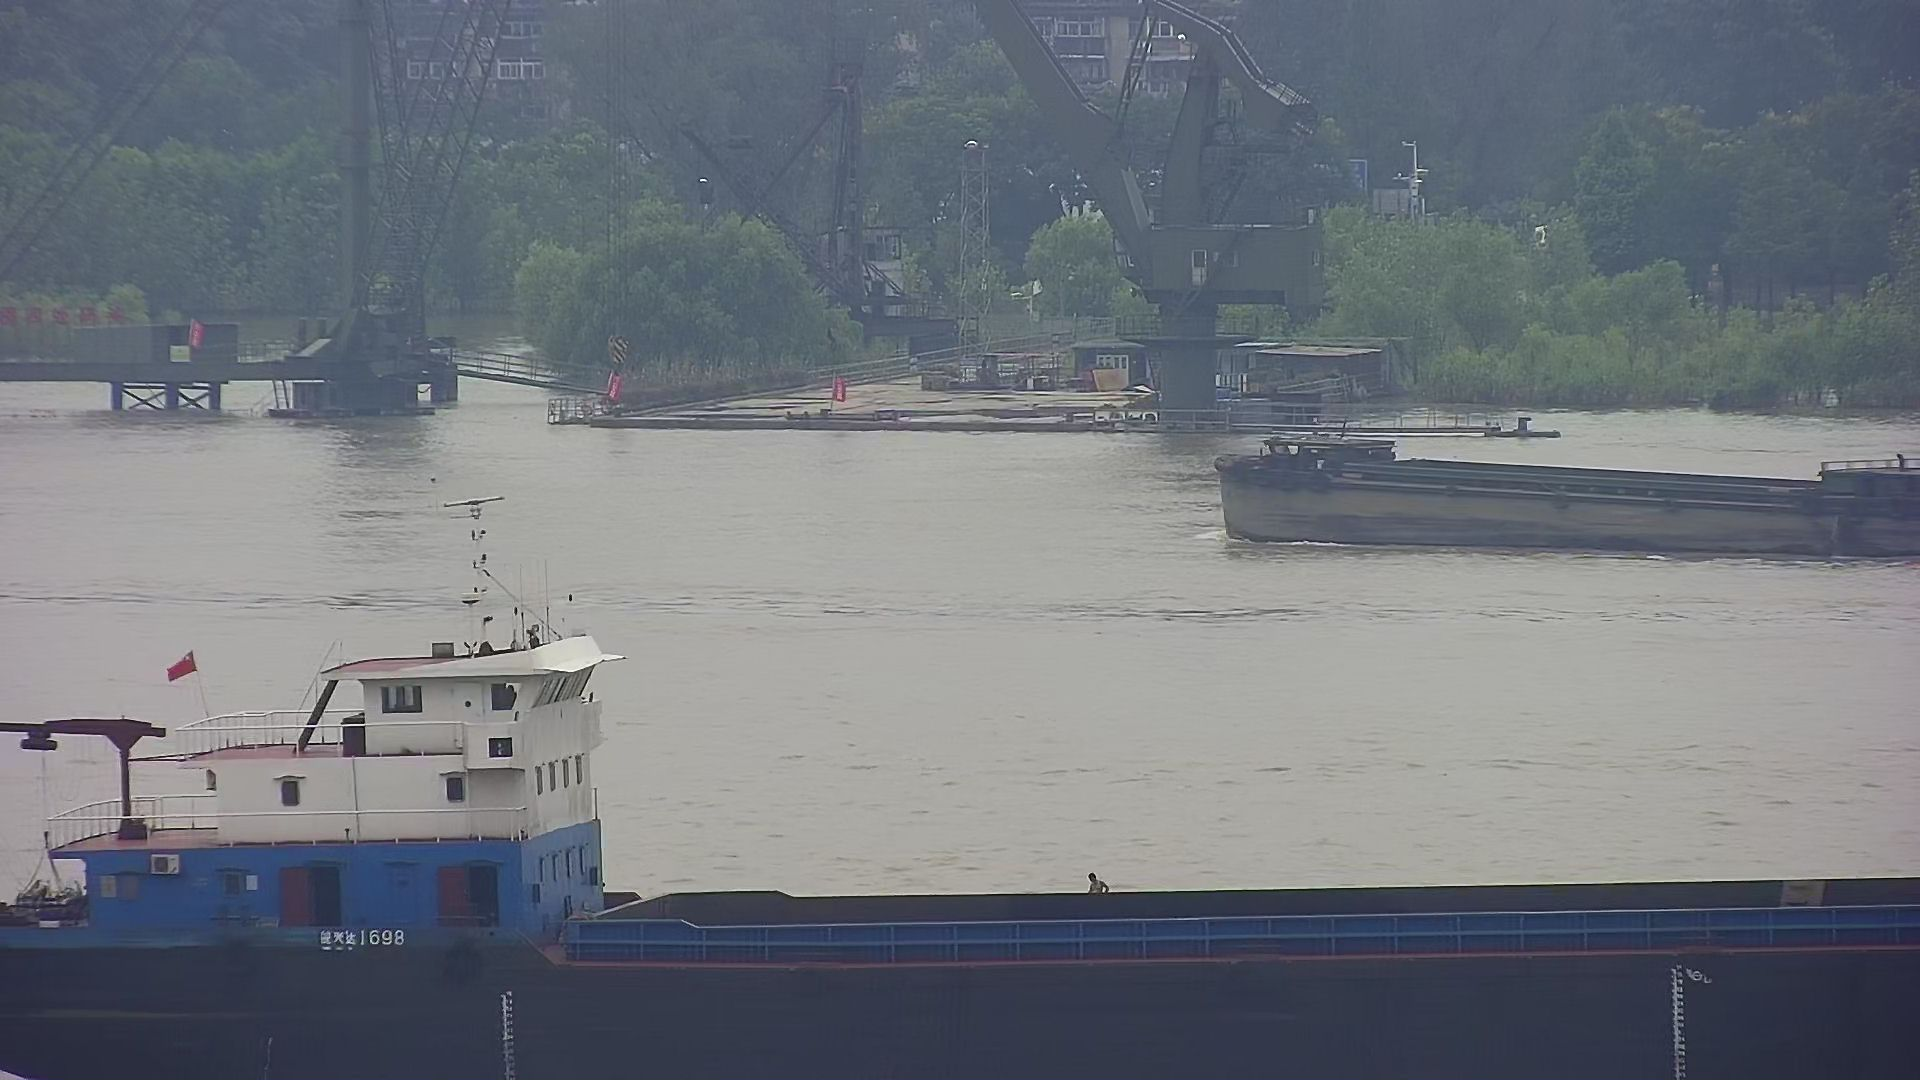platform: (1, 1, 481, 422)
ship: (3, 477, 1920, 1080), (1211, 425, 1920, 583)
